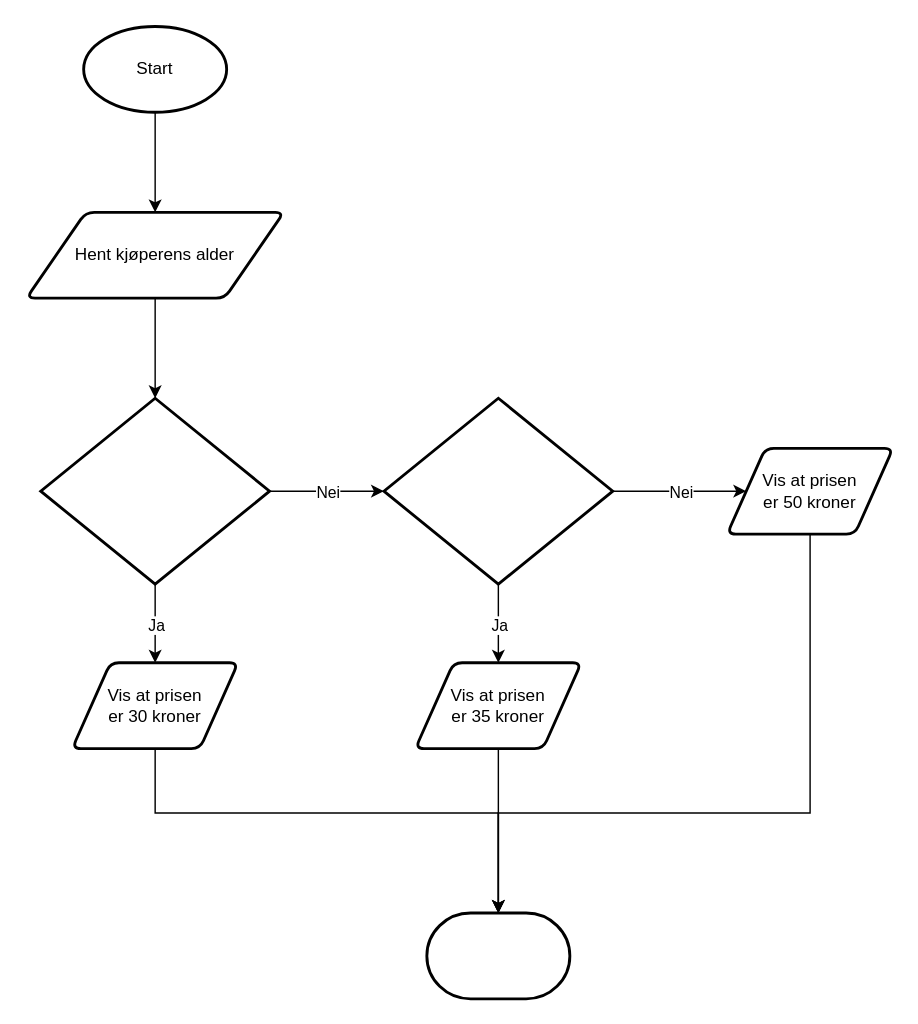
Some shapes in this 918 by 1024 pixel diagram are drawn without their labels. The shapes that lost their labels are listed below. From the top down, each one's centre as x and y in pixels, then its label:
At [154,490]: "Kjøperen er 15 år gammel eller yngre".
At [497,490]: "Kjøperen er 67 år gammel eller eldre".
At [498,955]: "Stopp".
